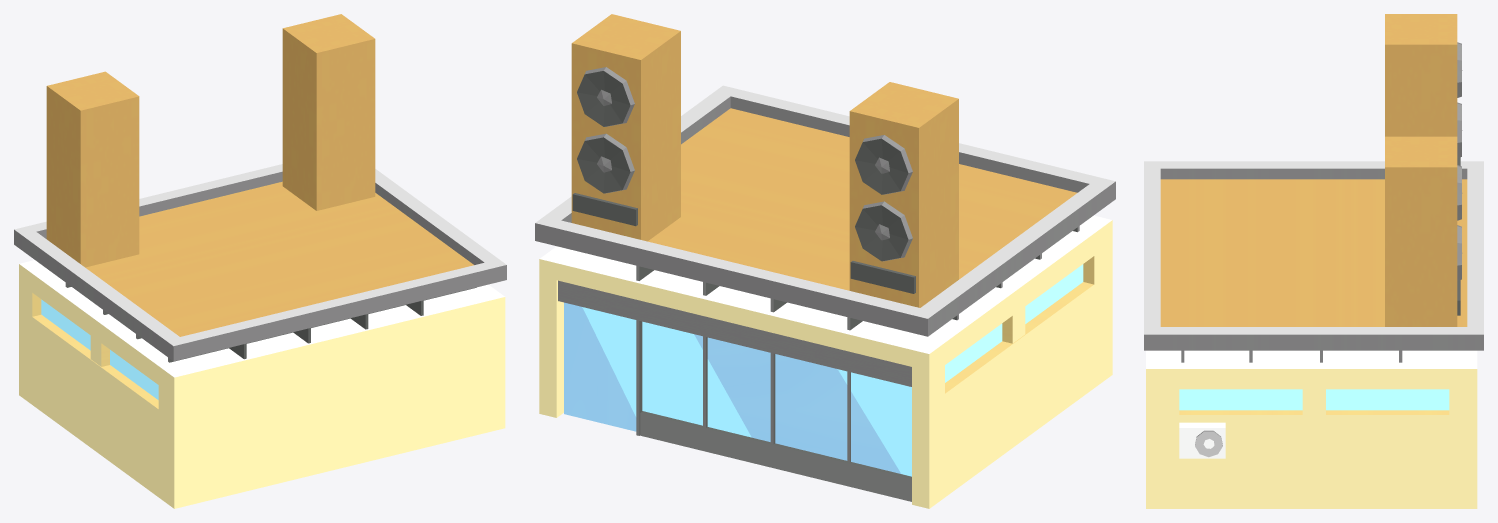
The model's file is services.007.glb.
The picture shows the model from 3 angles, left to right: view 1: azimuth 30°, elevation 25°; view 2: azimuth 150°, elevation 25°; view 3: azimuth 270°, elevation 25°; orthographic projection. The views are drawn at different scales.
Parts seen in each view (by area): view 1: services.007(Clone); view 2: services.007(Clone); view 3: services.007(Clone).
Boxes of the visible parts, box(x1,y1,x2,y2) form: services.007(Clone): box(14, 14, 506, 508); services.007(Clone): box(535, 14, 1115, 508); services.007(Clone): box(1144, 14, 1483, 508).
Bounding box in the file's own units: 7.42 × 6.42 × 5.95.
Materials: 1 (1 with a texture image).
